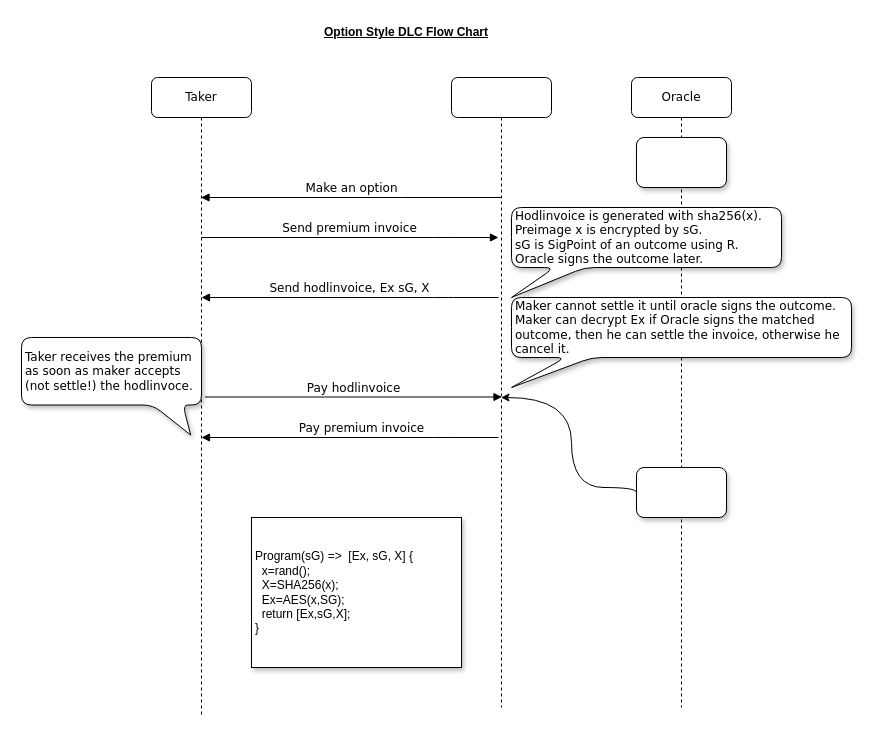
Image size: 875x735. Some labels were removed from this diagram. The centre of each missing label's shape, as x and y in pixels:
"Announce an event" belongs at point (682, 163).
"Maker" belongs at point (501, 392).
"Sign the outcome" belongs at point (682, 493).
